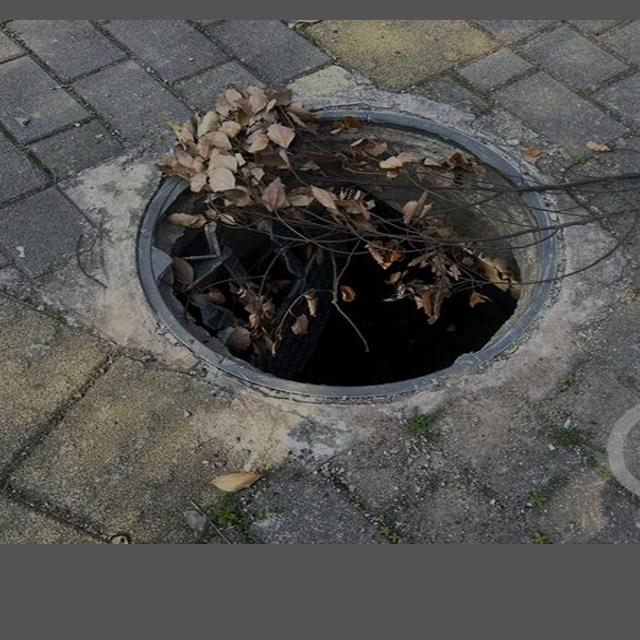lose: (139, 95, 562, 404)
